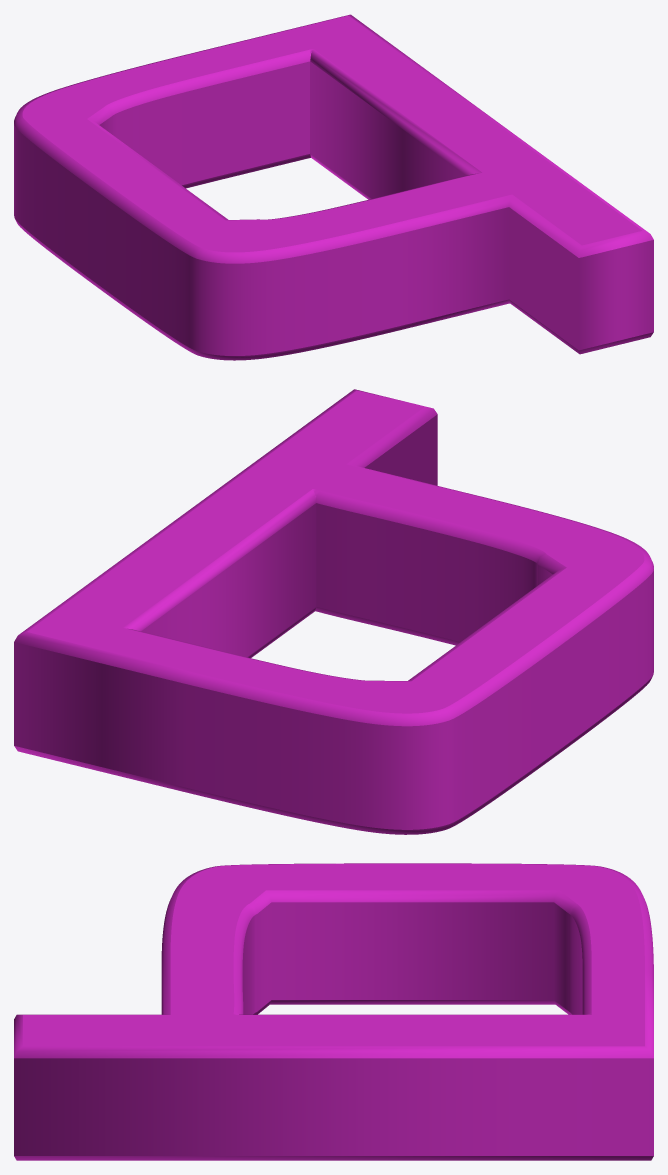
The model's file is Letter_b_CoolFont.fbx.
3 views of the same model, one above another, from view 1: azimuth 30°, elevation 25°; view 2: azimuth 150°, elevation 25°; view 3: azimuth 270°, elevation 25° (orthographic). The views are drawn at different scales.
Visible parts, largest first — view 1: Letter_b; view 2: Letter_b; view 3: Letter_b.
Part boxes in pixels (bbox=[...]): Letter_b: bbox=[14, 14, 653, 360]; Letter_b: bbox=[14, 389, 653, 834]; Letter_b: bbox=[14, 863, 653, 1160].
Size of the model in its own units: 0.5007 by 0.14 by 0.712.
